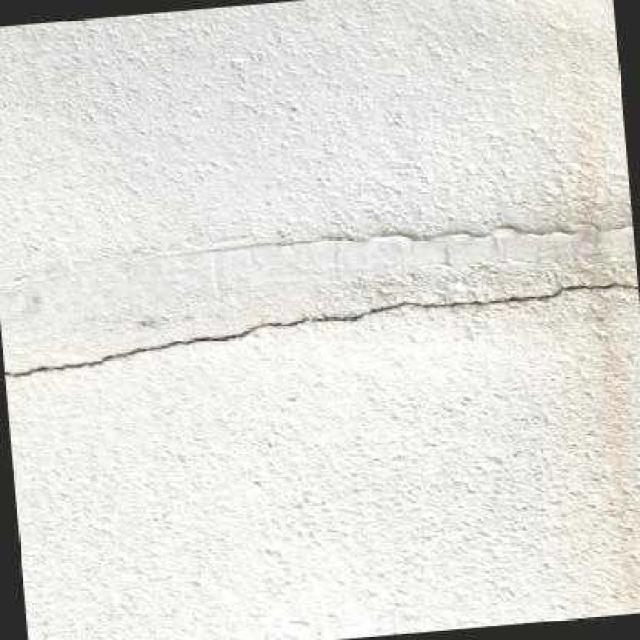D00: (4, 283, 639, 378)
